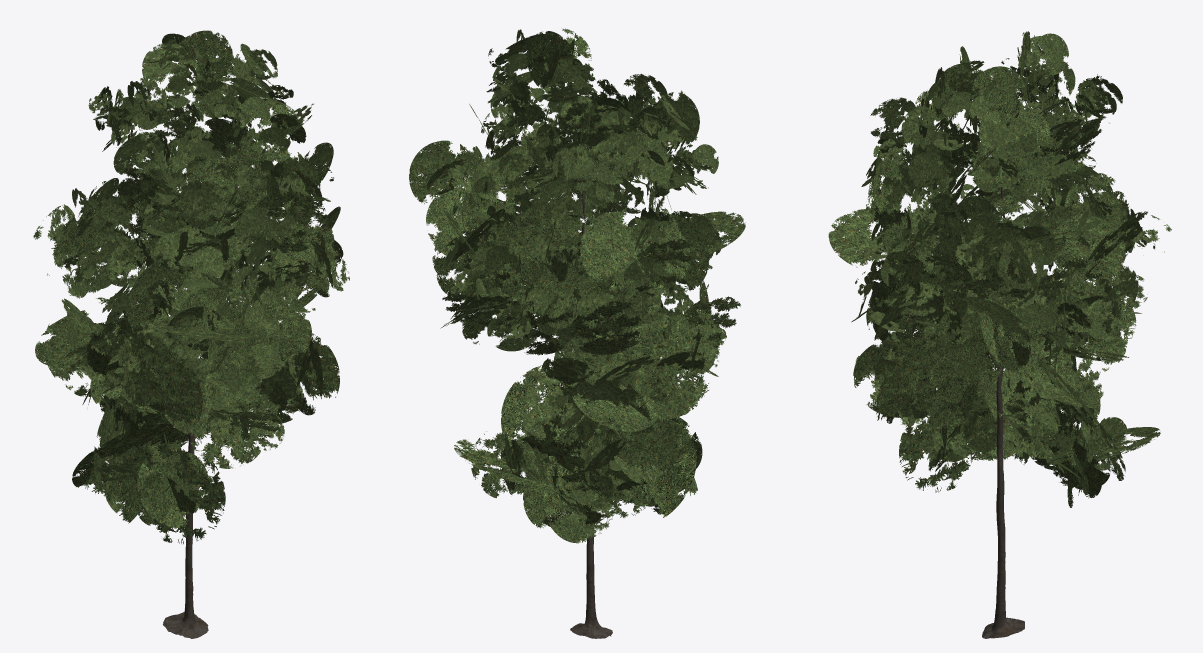
The model's file is las_sosna_c.glb.
The picture shows the model from 3 angles, left to right: view 1: azimuth 30°, elevation 25°; view 2: azimuth 150°, elevation 25°; view 3: azimuth 270°, elevation 25°; orthographic projection. The views are drawn at different scales.
Parts seen in each view (by area): view 1: liscie_2, liscie_1, liscie_0, pien; view 2: liscie_2, liscie_1, liscie_0, pien; view 3: liscie_2, liscie_1, liscie_0, pien.
Part boxes in pixels (left/top/right/bottom): liscie_2: left=33, top=30, right=343, bottom=543; liscie_1: left=51, top=33, right=349, bottom=527; liscie_0: left=53, top=39, right=336, bottom=515; pien: left=163, top=159, right=208, bottom=638; liscie_2: left=409, top=28, right=745, bottom=526; liscie_1: left=426, top=29, right=740, bottom=543; liscie_0: left=433, top=46, right=726, bottom=537; pien: left=570, top=180, right=612, bottom=638; liscie_2: left=828, top=31, right=1160, bottom=507; liscie_1: left=858, top=32, right=1171, bottom=498; liscie_0: left=851, top=35, right=1155, bottom=495; pien: left=982, top=187, right=1024, bottom=638.
Bounding box in the file's own units: 10.38 × 18.6 × 10.32.
2 materials, 2 textured.
